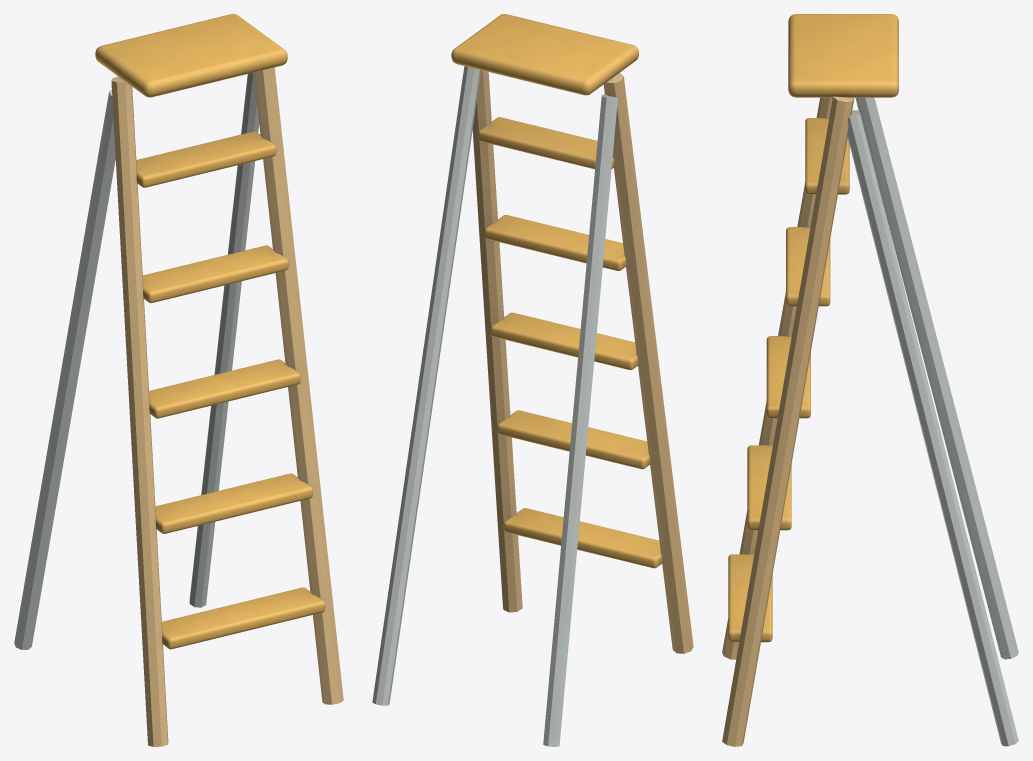
The model's file is StepLadder.fbx.
3 views of the same model, side by side, from view 1: azimuth 30°, elevation 25°; view 2: azimuth 150°, elevation 25°; view 3: azimuth 270°, elevation 25° (orthographic). The views are drawn at different scales.
Parts seen in each view (by area): view 1: StepLadder; view 2: StepLadder; view 3: StepLadder.
Part boxes in pixels (box(x1,y1,x2,y2)): StepLadder: box(14, 14, 343, 746); StepLadder: box(372, 14, 693, 746); StepLadder: box(722, 14, 1018, 746).
Size of the model in its own units: 61.9 by 195 by 80.33.
